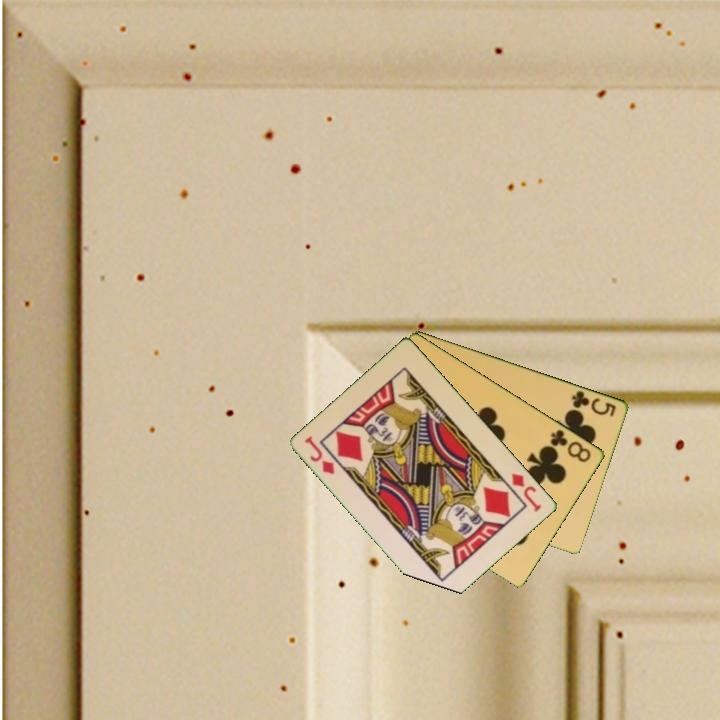5c: (569, 387, 620, 419)
8c: (547, 426, 594, 465)
Jd: (508, 470, 545, 515), (301, 432, 338, 477)
